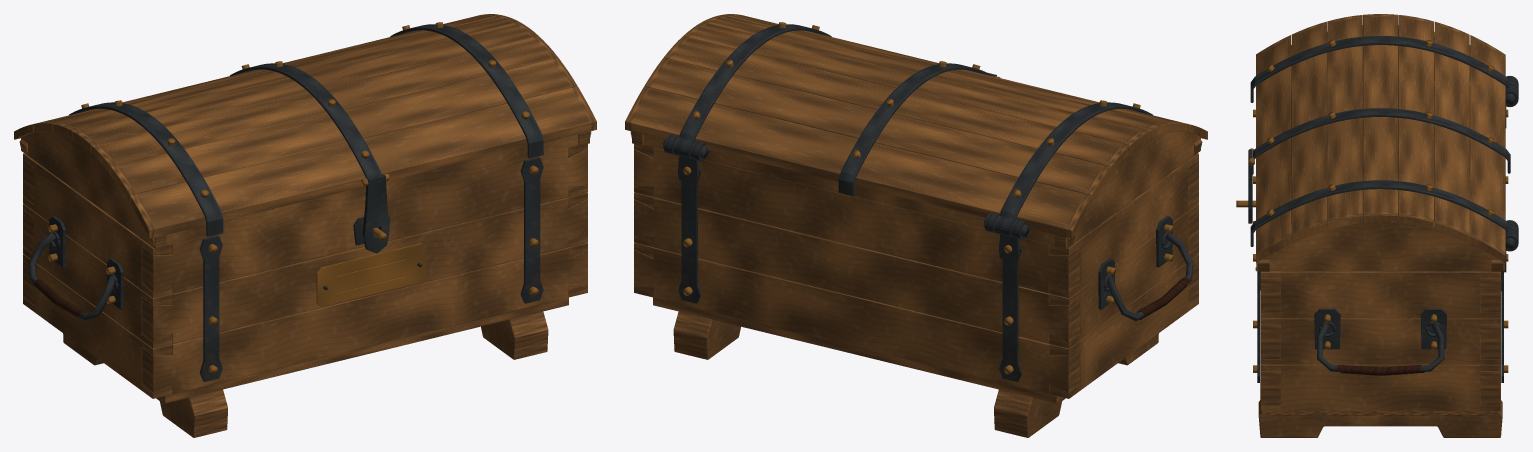
The model's file is frontier_field_supply_chest_lod0.glb.
3 renders of one model, left to right at view 1: azimuth 30°, elevation 25°; view 2: azimuth 150°, elevation 25°; view 3: azimuth 270°, elevation 25°, orthographic. The views are drawn at different scales.
Parts seen in each view (by area): view 1: frontier_field_supply_chest.oak, frontier_field_supply_chest.iron, frontier_field_supply_chest.brass, frontier_field_supply_chest.leather; view 2: frontier_field_supply_chest.oak, frontier_field_supply_chest.iron, frontier_field_supply_chest.brass, frontier_field_supply_chest.leather; view 3: frontier_field_supply_chest.oak, frontier_field_supply_chest.iron, frontier_field_supply_chest.brass, frontier_field_supply_chest.leather.
Part boxes in pixels (x1=…): frontier_field_supply_chest.oak: x1=14, y1=14, x2=596, y2=437; frontier_field_supply_chest.iron: x1=28, y1=24, x2=543, y2=381; frontier_field_supply_chest.brass: x1=48, y1=22, x2=538, y2=374; frontier_field_supply_chest.leather: x1=32, y1=278, x2=85, y2=318; frontier_field_supply_chest.oak: x1=625, y1=14, x2=1207, y2=437; frontier_field_supply_chest.iron: x1=663, y1=24, x2=1193, y2=381; frontier_field_supply_chest.brass: x1=683, y1=22, x2=1173, y2=374; frontier_field_supply_chest.leather: x1=1137, y1=277, x2=1189, y2=319; frontier_field_supply_chest.oak: x1=1256, y1=14, x2=1505, y2=437; frontier_field_supply_chest.iron: x1=1248, y1=35, x2=1518, y2=382; frontier_field_supply_chest.brass: x1=1236, y1=40, x2=1508, y2=372; frontier_field_supply_chest.leather: x1=1336, y1=364, x2=1424, y2=375.
Bounding box in the file's own units: 1.55 × 0.7905 × 0.8165.
Materials: 4 (4 with a texture image).
